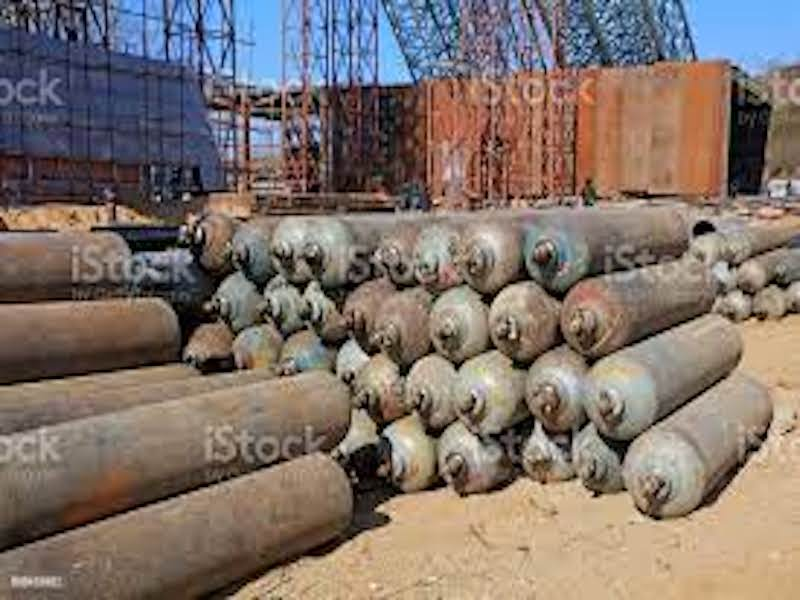combustible substance: (13, 202, 699, 569)
